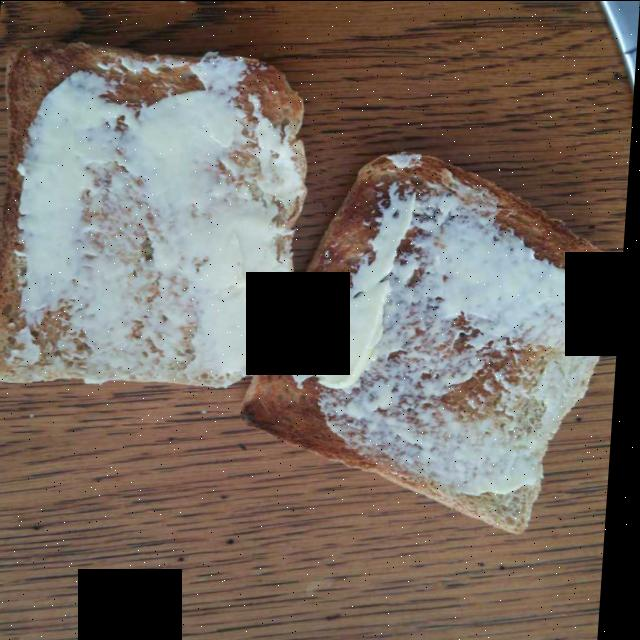bread-half-white: (19, 51, 618, 555)
butter: (3, 85, 603, 495)
